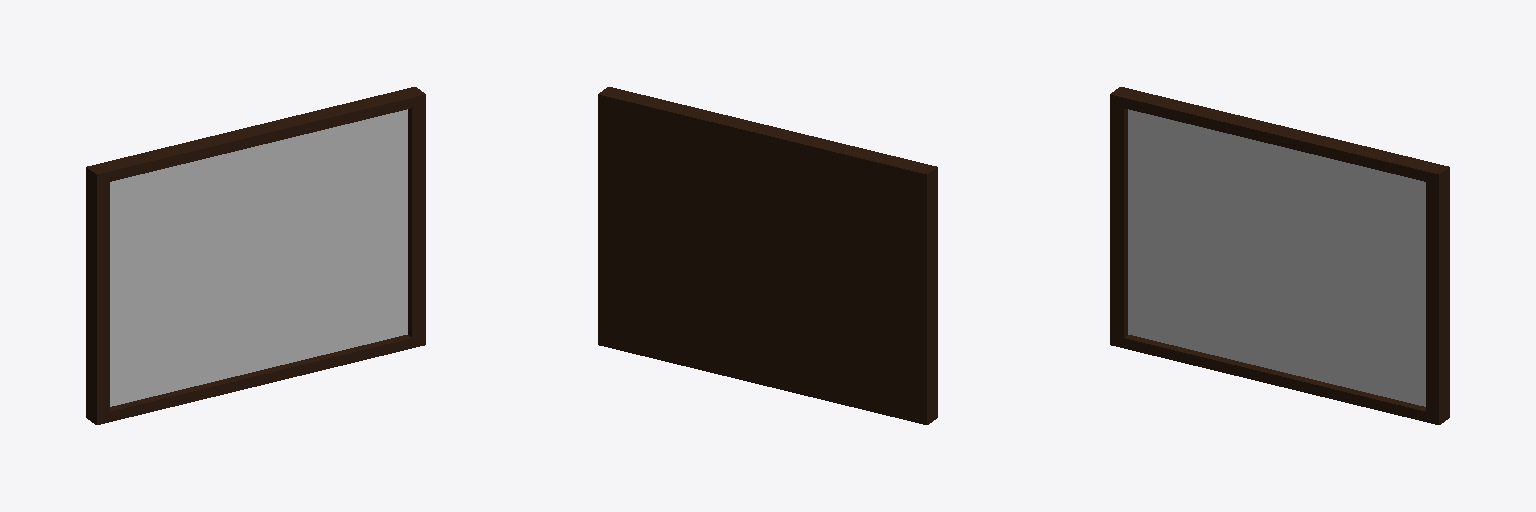
Rendered from persistance_memory.obj.
The picture shows the model from 3 angles: view 1: azimuth 30°, elevation 25°; view 2: azimuth 150°, elevation 25°; view 3: azimuth 330°, elevation 25°; orthographic projection.
Visible parts, largest first — view 1: Cube; view 2: Cube; view 3: Cube.
Part boxes in pixels (left/top/right/bottom): Cube: left=86, top=87, right=425, bottom=424; Cube: left=598, top=87, right=937, bottom=424; Cube: left=1110, top=87, right=1449, bottom=424.
Size of the model in its own units: 330 by 240 by 18.5.